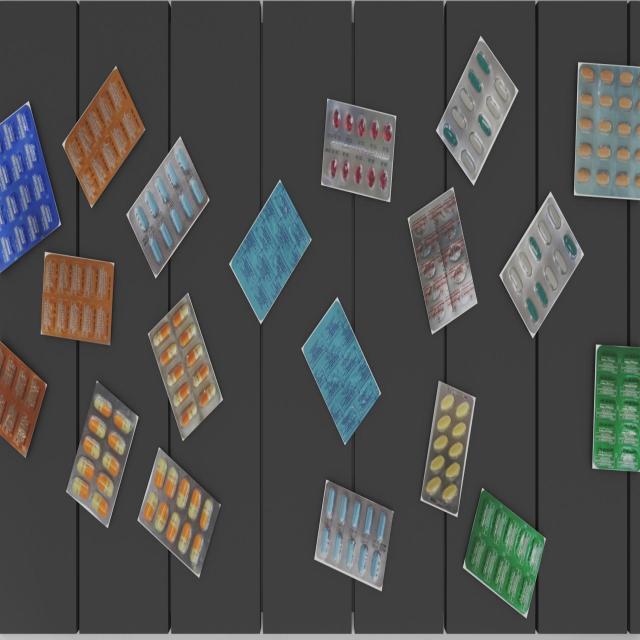blister: (499, 193, 583, 339), (64, 65, 146, 206), (302, 299, 381, 444), (230, 182, 311, 322), (126, 137, 206, 277), (149, 291, 221, 444), (463, 484, 545, 617), (139, 448, 222, 579), (407, 187, 478, 337), (438, 41, 515, 179), (0, 101, 59, 274), (68, 381, 136, 522), (574, 64, 640, 205), (315, 478, 395, 589), (319, 97, 396, 202), (0, 322, 54, 463), (42, 251, 112, 343), (423, 383, 473, 511), (592, 344, 640, 474)
